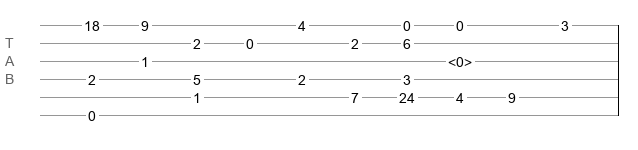0: (88, 108, 96, 118), (246, 36, 254, 46), (403, 18, 411, 28), (456, 18, 464, 28)
1: (141, 54, 149, 64), (193, 90, 201, 100)
18: (84, 18, 100, 28)
2: (88, 72, 96, 82), (193, 36, 201, 46), (298, 72, 306, 82), (351, 36, 359, 46)
24: (399, 90, 415, 100)
3: (403, 72, 411, 82), (561, 18, 569, 28)
4: (298, 18, 306, 28), (456, 90, 464, 100)
5: (193, 72, 201, 82)
6: (403, 36, 411, 46)
7: (351, 90, 359, 100)
9: (141, 18, 149, 28), (508, 90, 516, 100)
harmonic: (448, 54, 472, 64)
